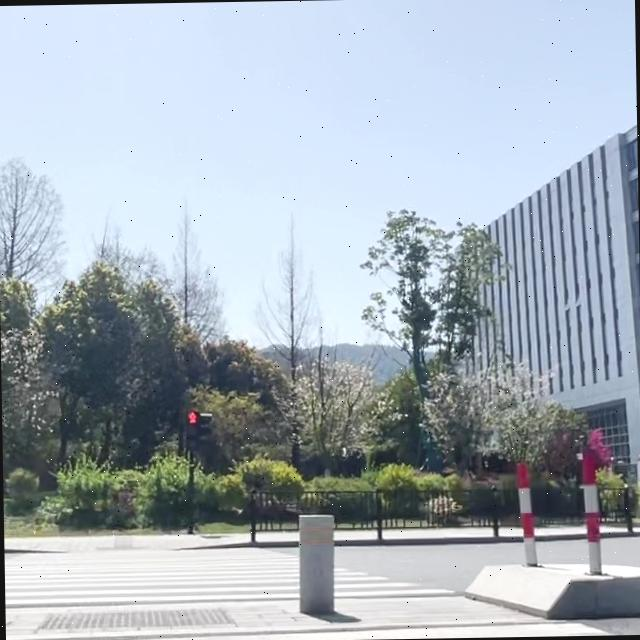curb: (7, 618, 567, 640), (465, 563, 640, 617), (335, 535, 522, 546), (180, 540, 297, 547), (536, 532, 584, 541), (4, 547, 53, 554), (600, 531, 640, 538)
